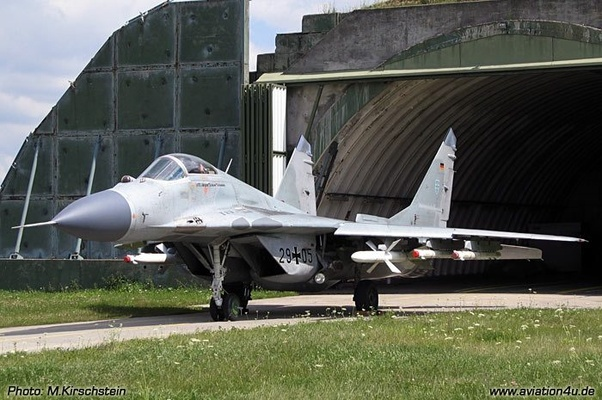Mig-29: (39, 112, 514, 292)
